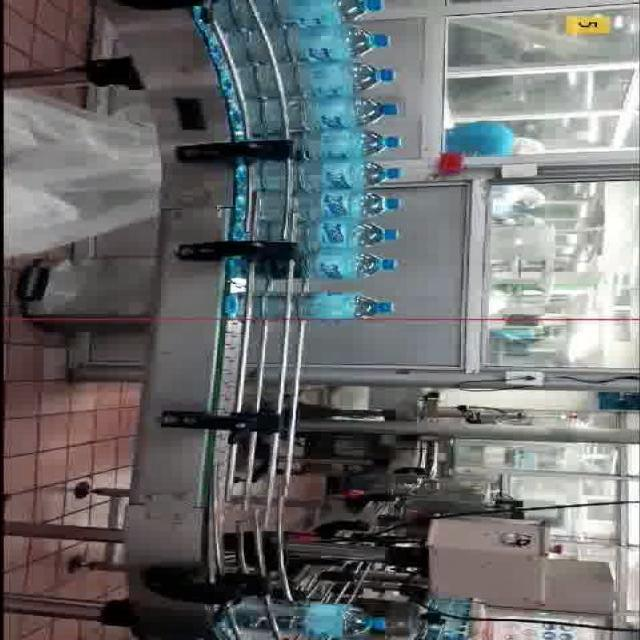bottle: (225, 21, 392, 64), (213, 598, 388, 638), (254, 246, 400, 290), (233, 58, 396, 97), (214, 0, 392, 35), (253, 92, 401, 130), (256, 188, 403, 221), (265, 157, 403, 191), (258, 289, 395, 321), (294, 126, 403, 160), (295, 218, 401, 250)
